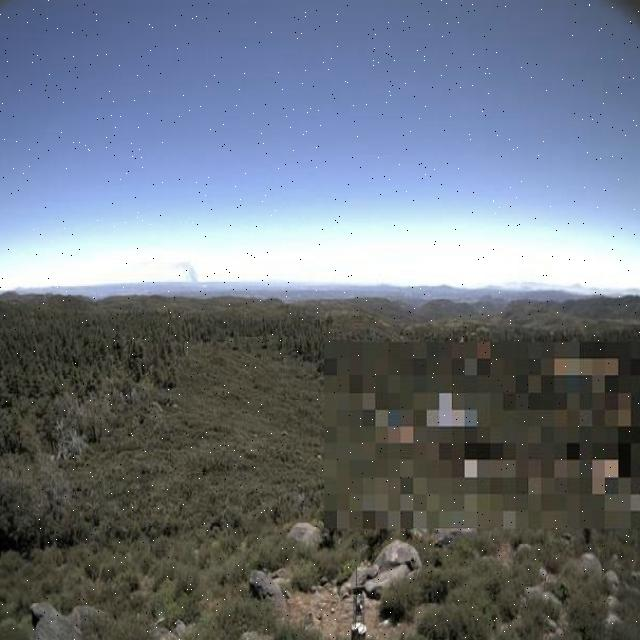smoke: (169, 258, 201, 289)
